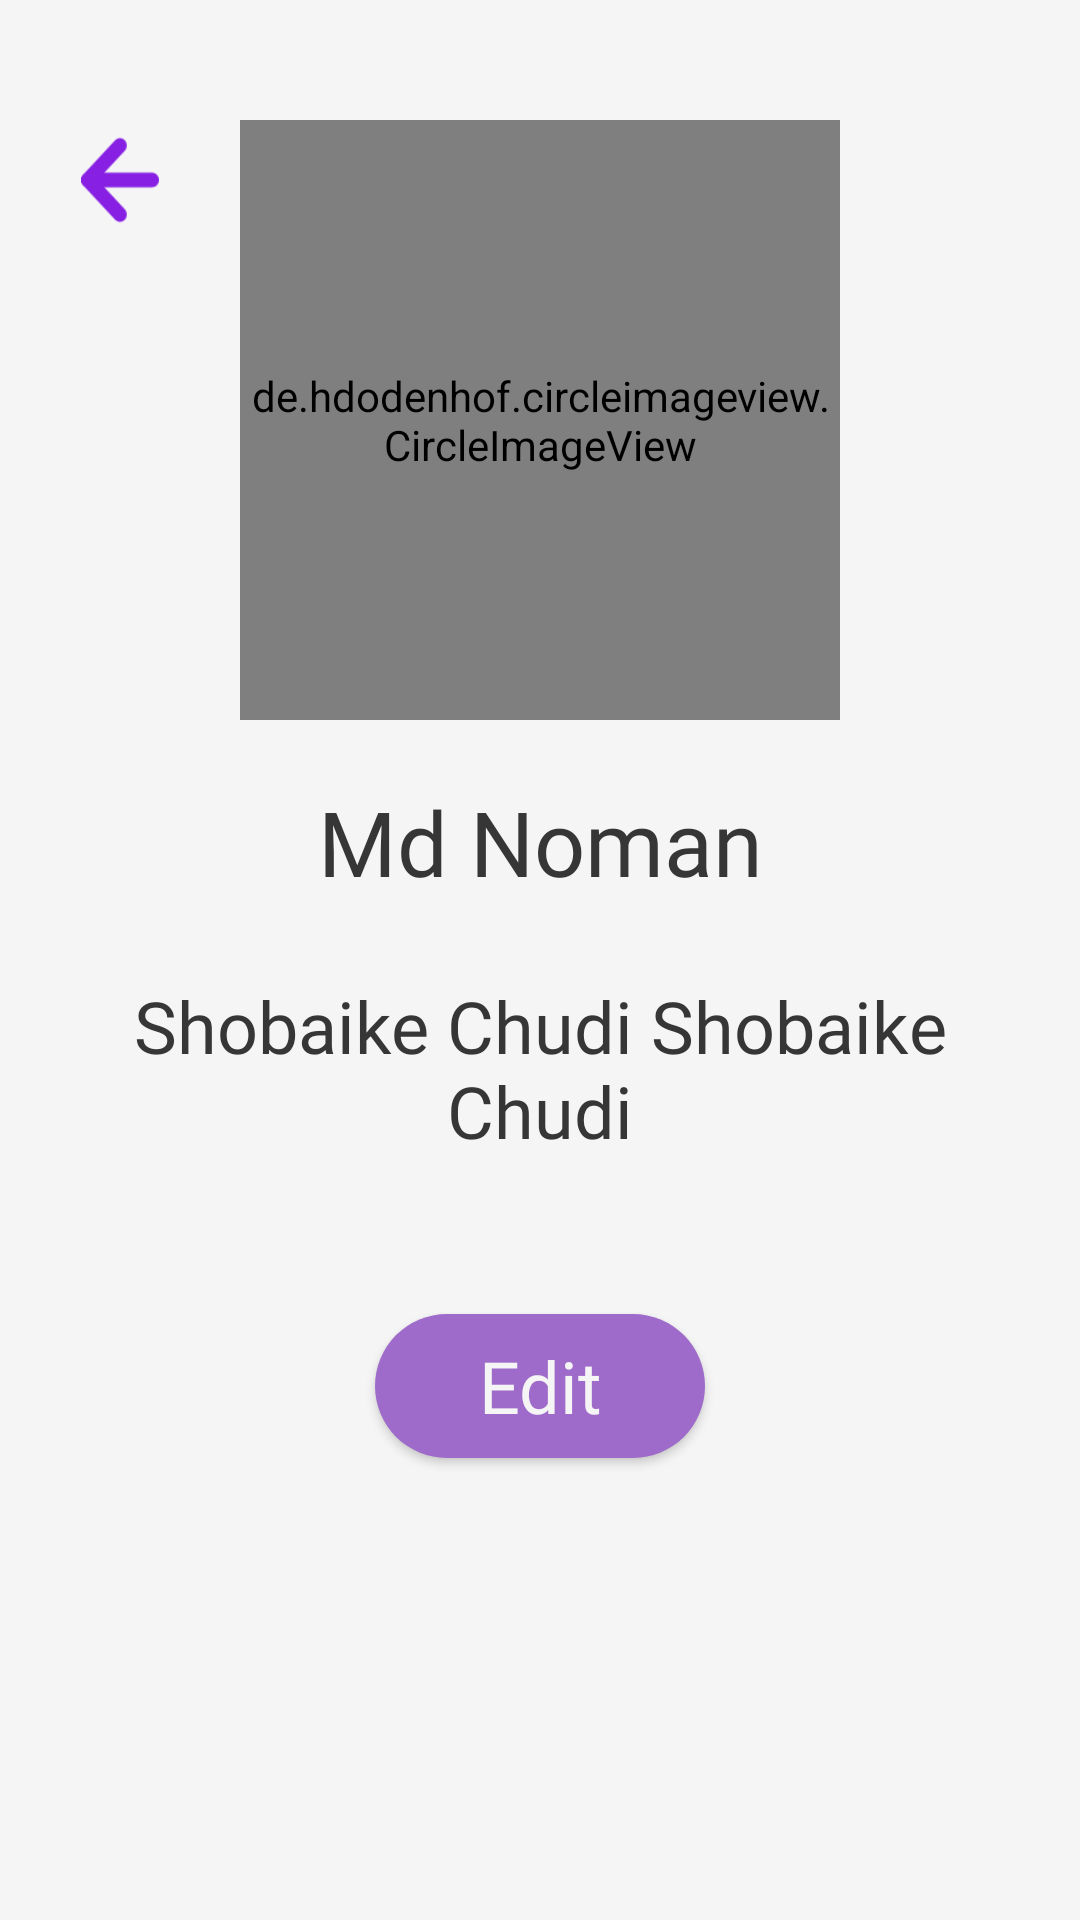

Locate icon controls on the screen. Image size 1080*1920, boxes as (x1, y1, x2, y2).
arrowleftx: (81, 137, 159, 223)
